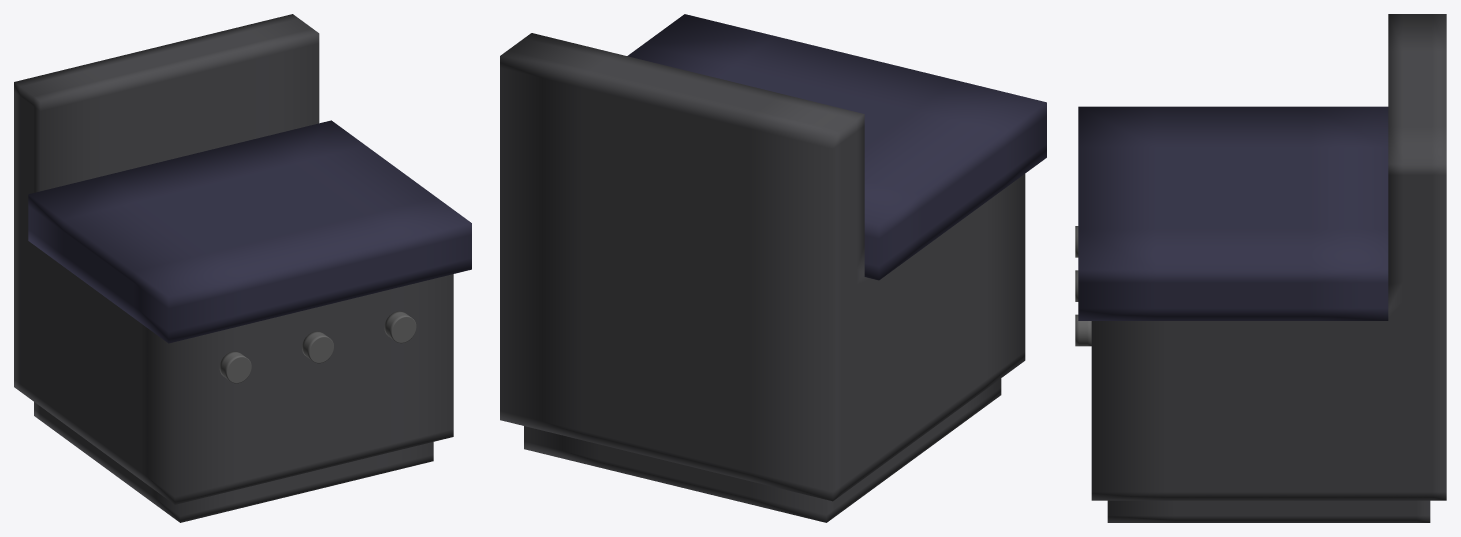
File: Estufa.obj
The picture shows the model from 3 angles, left to right: view 1: azimuth 30°, elevation 25°; view 2: azimuth 150°, elevation 25°; view 3: azimuth 270°, elevation 25°; orthographic projection. The views are drawn at different scales.
Parts seen in each view (by area): view 1: Estufa; view 2: Estufa; view 3: Estufa.
Boxes of the visible parts, bbox=[...] form: Estufa: bbox=[14, 14, 471, 522]; Estufa: bbox=[500, 14, 1046, 522]; Estufa: bbox=[1075, 14, 1446, 522].
Size of the model in its own units: 0.4787 by 0.5 by 0.46.
Materials: 1 (1 with a texture image).
